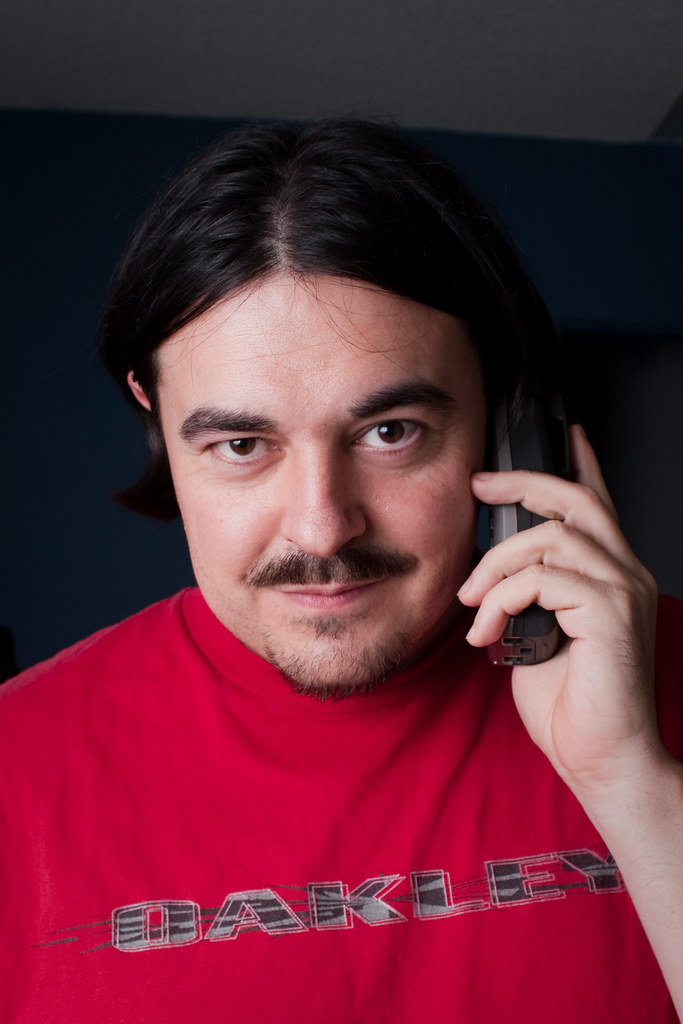phone: (460, 393, 623, 684)
talk: (188, 344, 659, 778)
